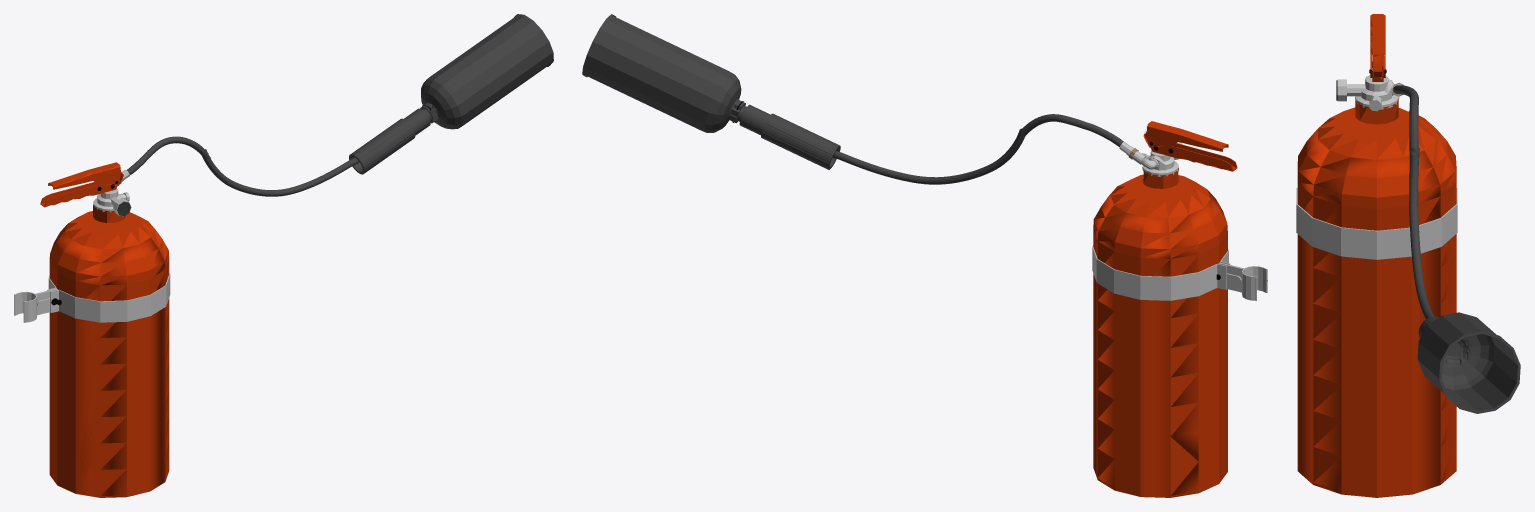
The picture shows the model from 3 angles, left to right: view 1: azimuth 30°, elevation 25°; view 2: azimuth 150°, elevation 25°; view 3: azimuth 270°, elevation 25°; orthographic projection. The views are drawn at different scales.
Parts seen in each view (by area): view 1: Base_01.002, Base_04, Base_01.001, Base_04.002, Base_02; view 2: Base_01.002, Base_04, Base_01.001, Base_04.002, Base_02; view 3: Base_01.002, Base_04, Base_01.001, Base_04.002, Base_02.
Part boxes in pixels (x1,y1,x2,y2): Base_01.002: (40, 162, 169, 497); Base_04: (420, 14, 553, 129); Base_01.001: (14, 170, 170, 322); Base_04.002: (202, 118, 415, 196); Base_02: (127, 136, 210, 174); Base_01.002: (1093, 121, 1267, 497); Base_04: (582, 14, 745, 132); Base_01.001: (1092, 142, 1267, 300); Base_04.002: (761, 113, 1024, 184); Base_02: (1020, 114, 1123, 146); Base_01.002: (1297, 14, 1456, 497); Base_04: (1417, 312, 1520, 413); Base_01.001: (1296, 75, 1457, 259); Base_04.002: (1409, 148, 1438, 338); Base_02: (1393, 85, 1418, 162).
Size of the model in its own units: 840 by 456 by 214.
